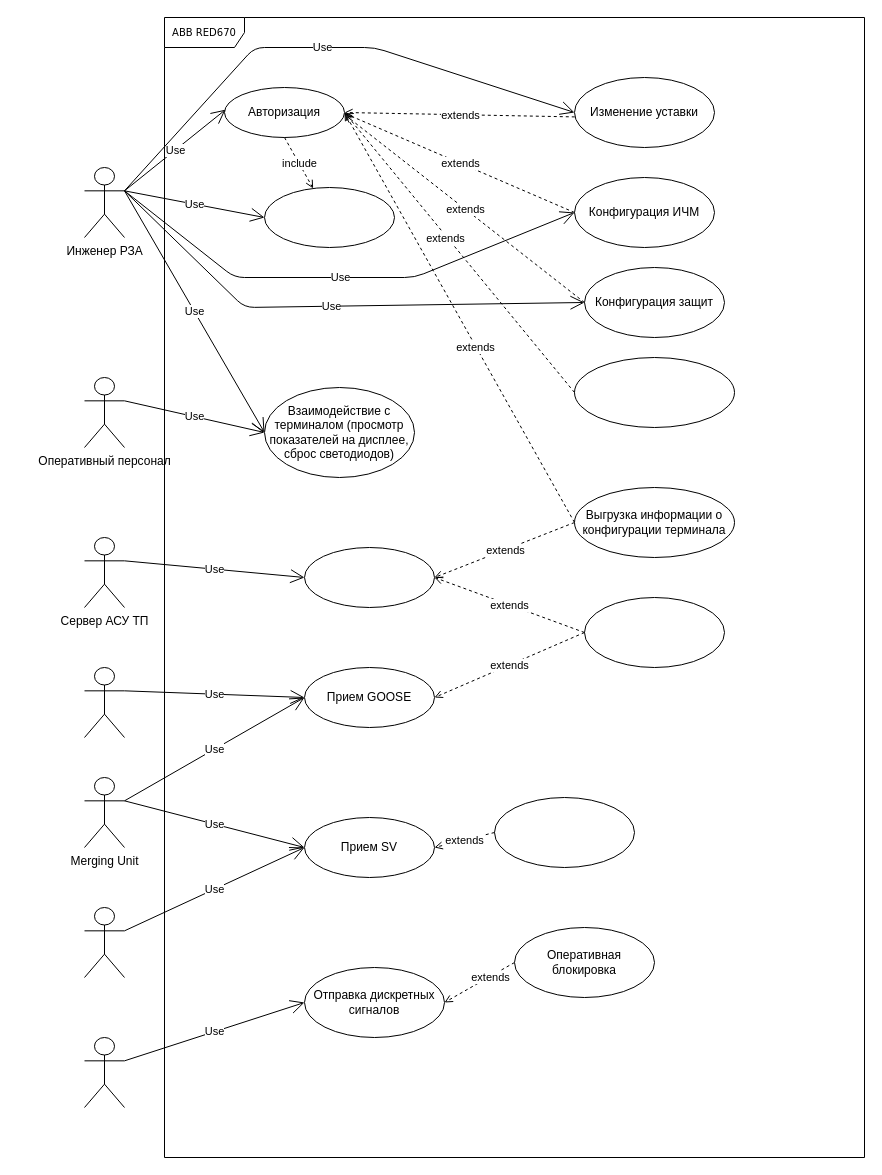
This 882x1175 diagram has some shape labels left out. The shapes that lost their labels are listed below. From the top down, each one's centre as x and y in pixels, then its label:
[329,217]: Подключение через PCM600
[654,392]: Выгрузка журнала событий
[369,577]: Отправка MMS
[654,632]: Телеотключение
[104,702]: Терминал защиты
[564,832]: Работа алгоритма
[104,942]: Цифровые измерительные преобразователи
[104,1072]: Энергооборудование (разъединители, выключатели)
